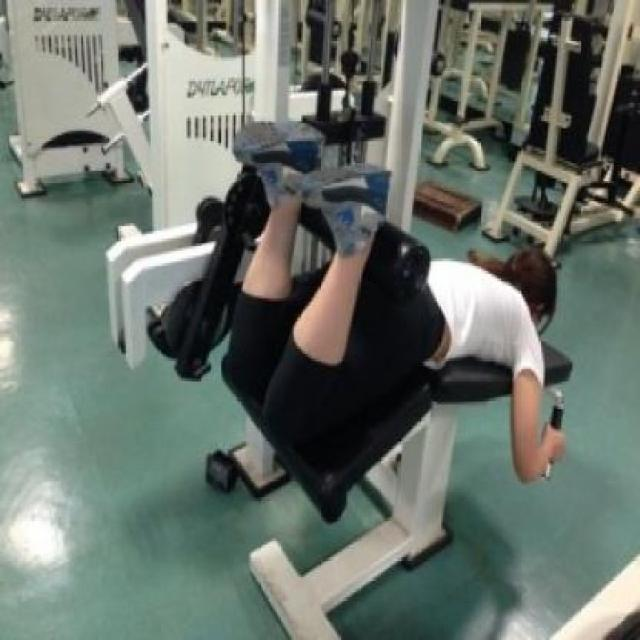reg curl machine: (99, 0, 576, 640)
